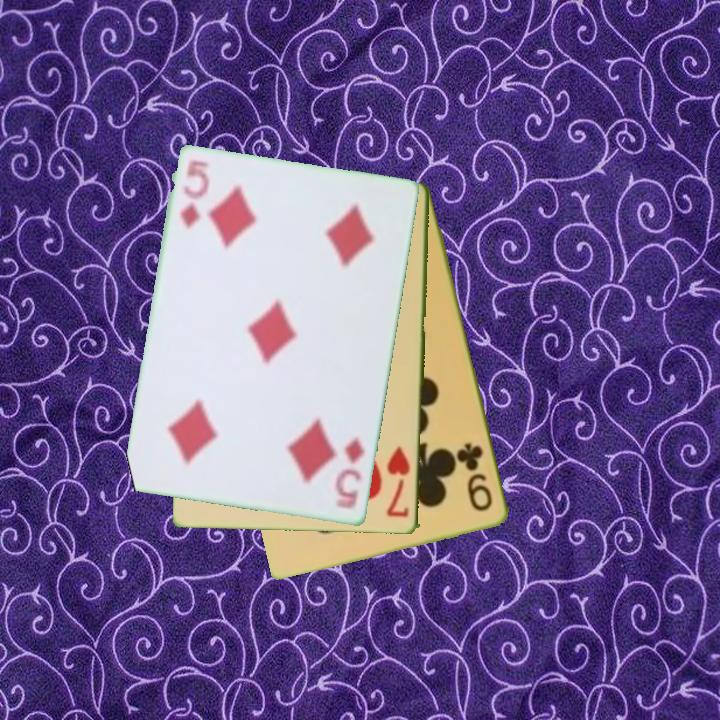5d: (332, 434, 368, 513), (177, 164, 210, 233)
7h: (384, 443, 413, 521)
9c: (456, 439, 496, 515)
